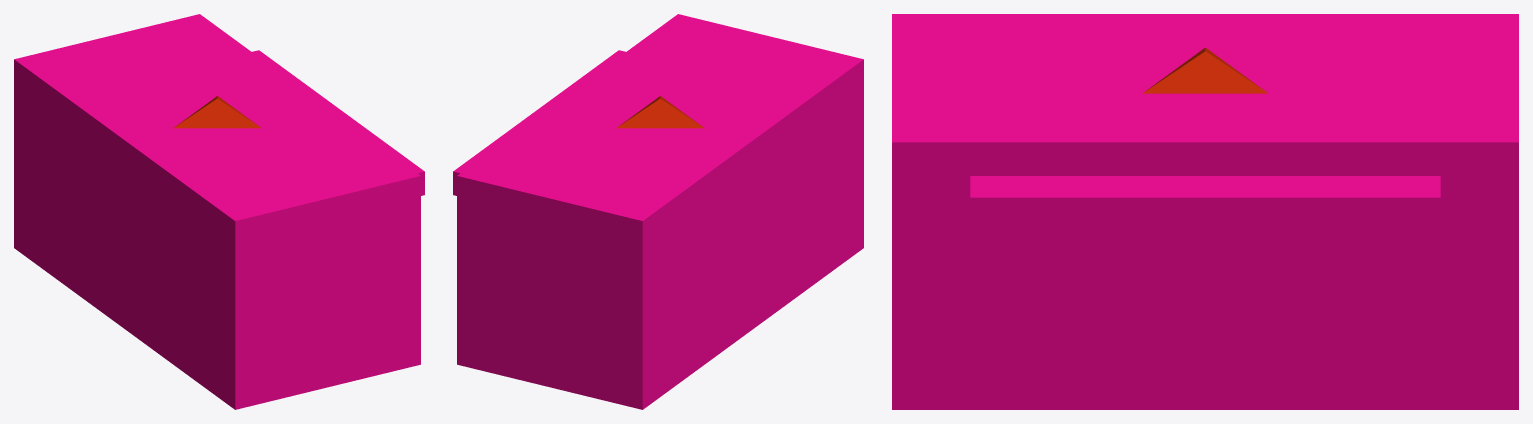
Rendered from Intel Desk 1.1.obj.
3 renders of one model, left to right at view 1: azimuth 30°, elevation 25°; view 2: azimuth 150°, elevation 25°; view 3: azimuth 270°, elevation 25°, orthographic. The views are drawn at different scales.
Visible parts, largest first — view 1: Cube, Cone; view 2: Cube, Cone; view 3: Cube, Cone.
Boxes of the visible parts, x1,y1,x2,y2 form: Cube: [14, 14, 424, 409]; Cone: [173, 96, 261, 128]; Cube: [453, 14, 863, 409]; Cone: [616, 96, 704, 128]; Cube: [892, 14, 1518, 409]; Cone: [1142, 47, 1268, 93].
Size of the model in its own units: 3.4 by 3.1 by 5.99.
